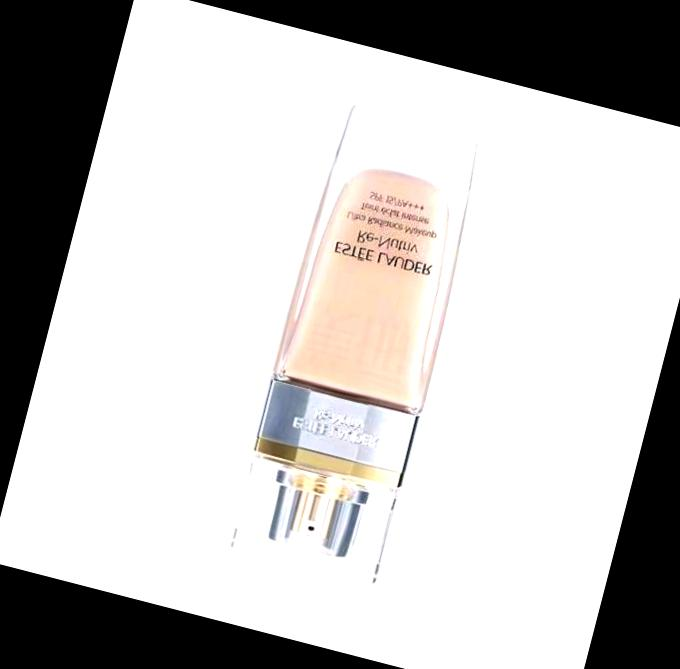cosmetic: (228, 99, 488, 584)
